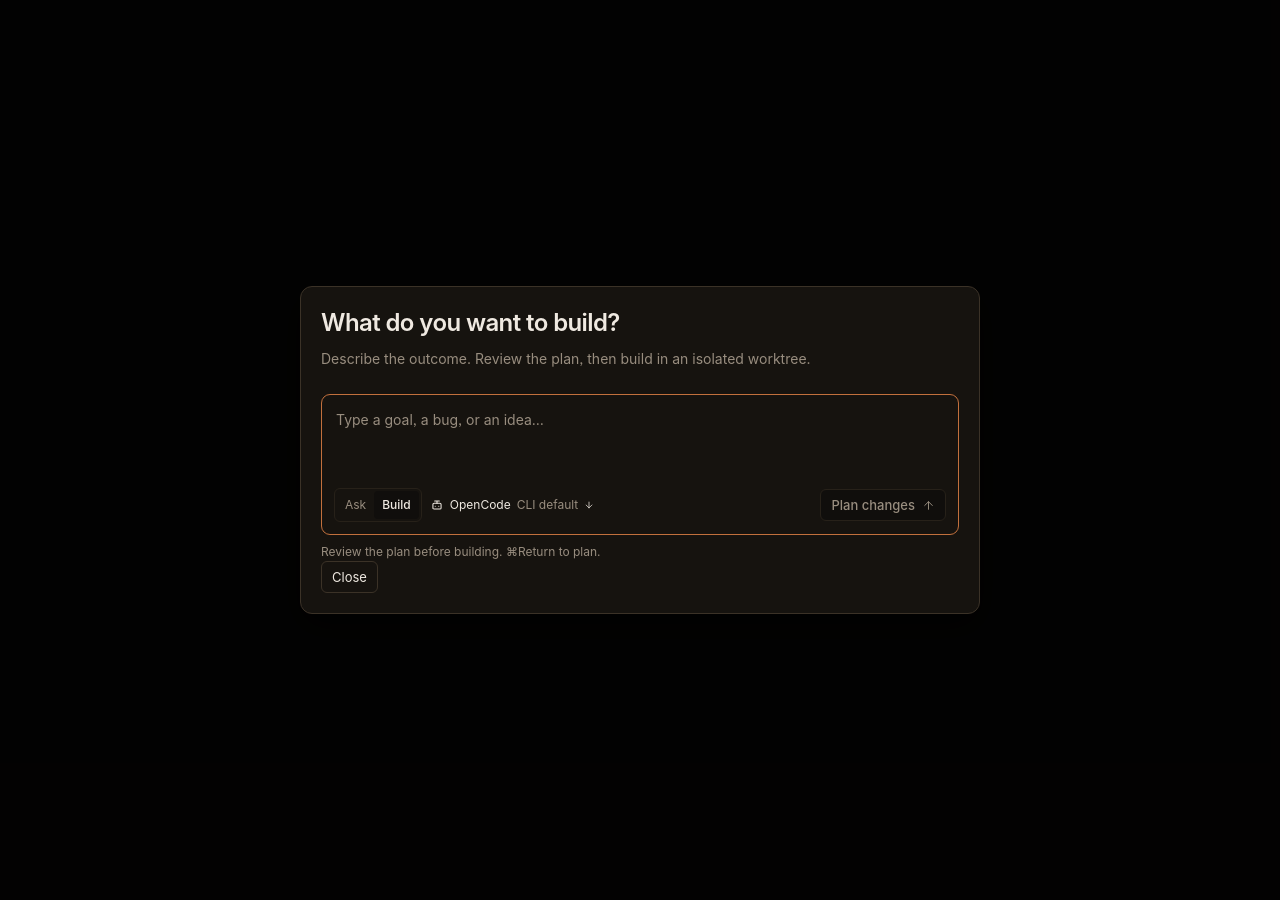
Test: UniversalComposer › keeps the dialog open and explains a failed start
This screenshot has width=1280, height=900.
Type "A failing intent" into the 2nd text box with test id "thread-composer" at (640, 443), box 334,407 -> 946,478
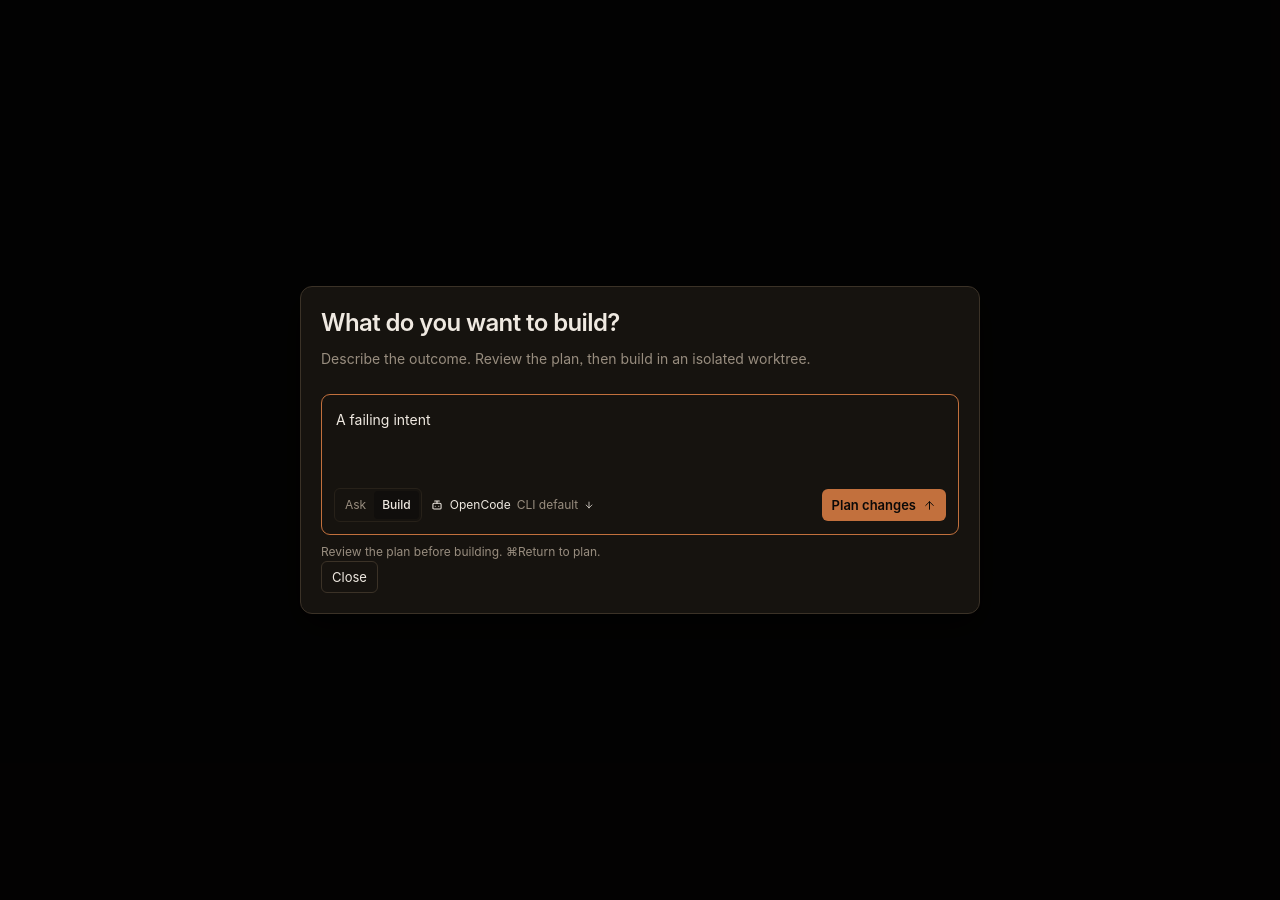
Click the button "Plan changes" at (884, 505), box 822,489 -> 946,521
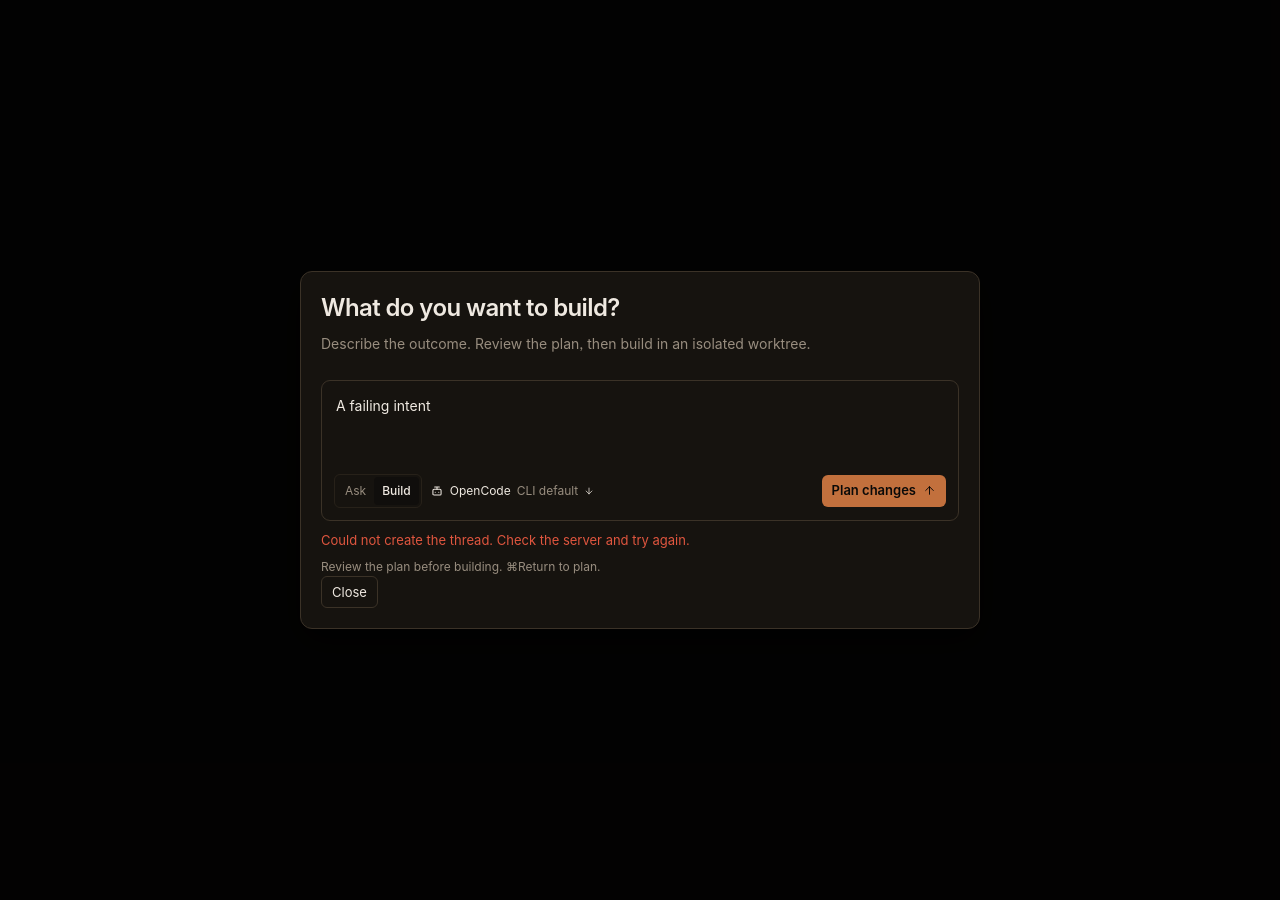
Expected: the text "Could not create the thread. Check the server and try again." is shown, 321,532 -> 690,548
